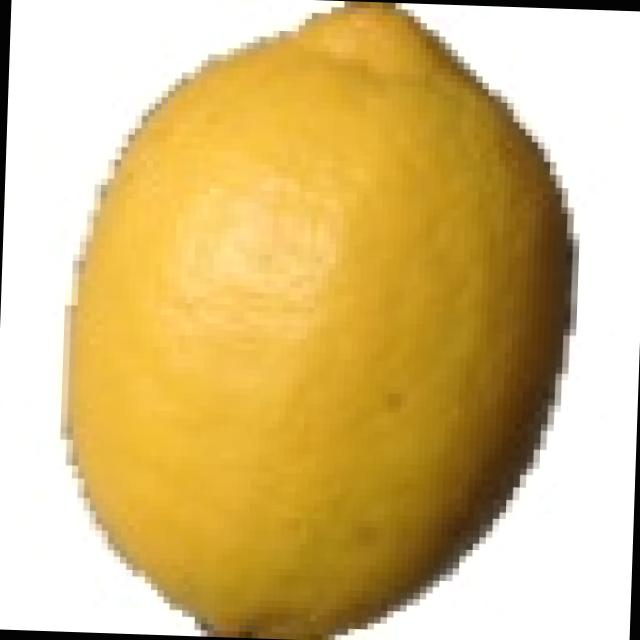lemon: (58, 0, 597, 640)
